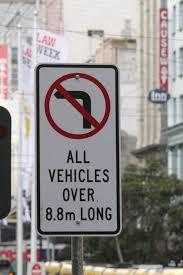no_left_turn: (43, 71, 109, 138)
